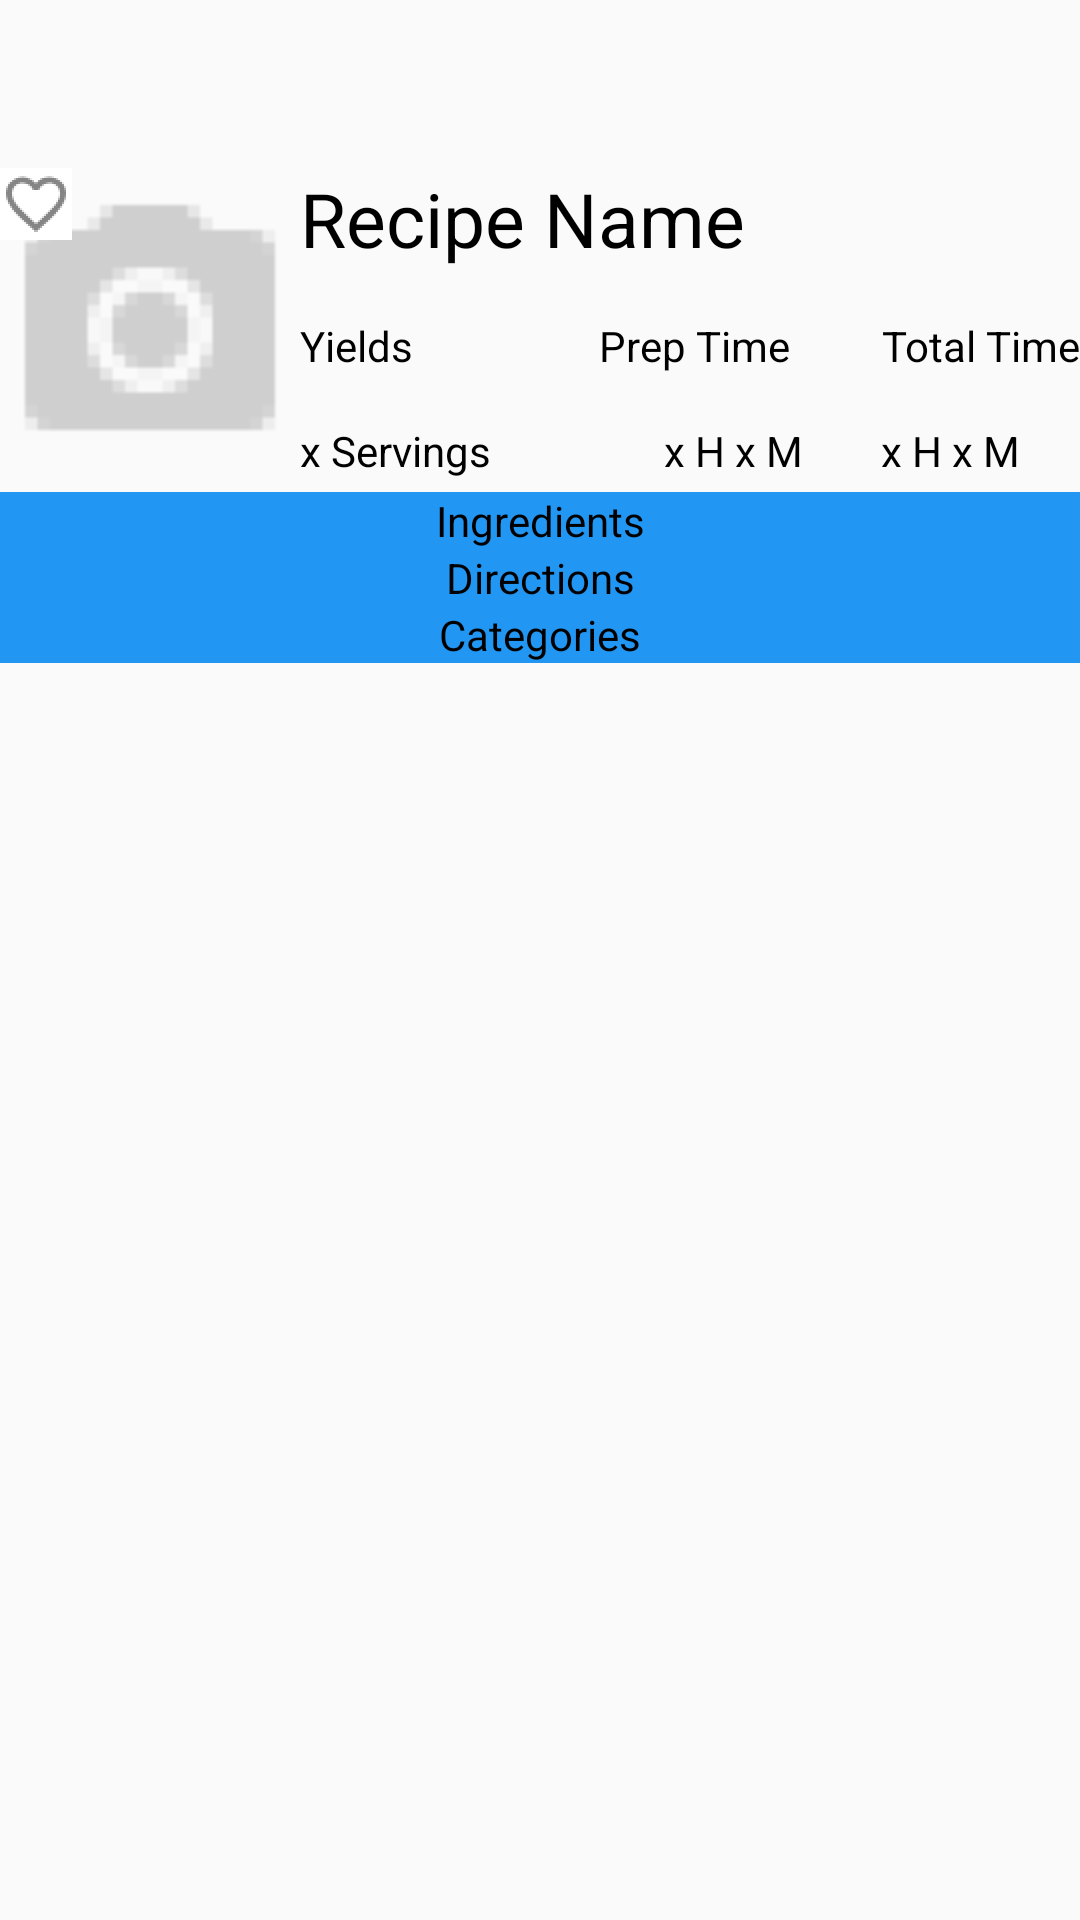

Icon click points for this 1080 x 1920 phone screenshot, format (x,y):
favorite: (36,204)
